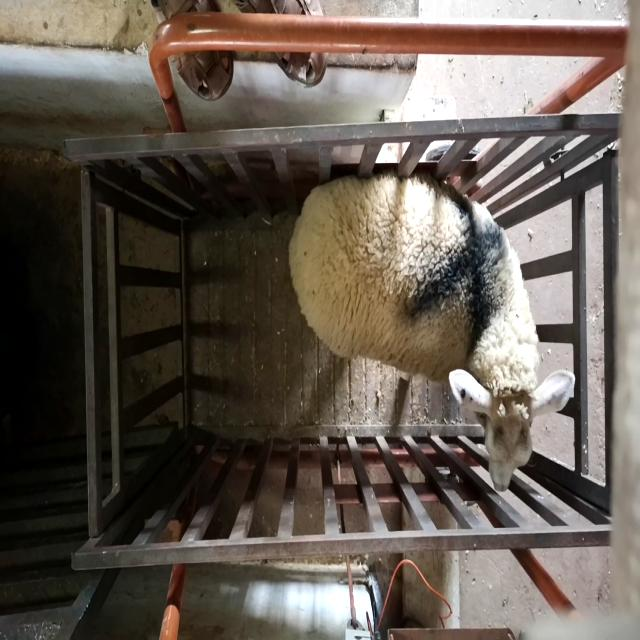sheep: (289, 173, 575, 493)
